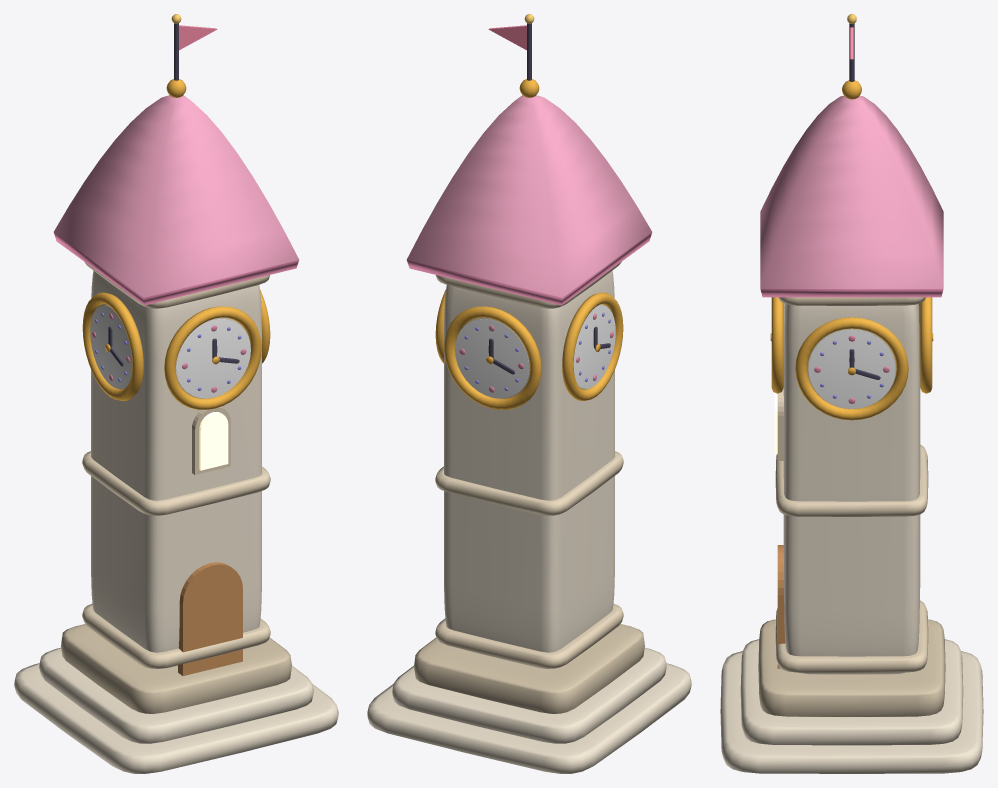
Rendered from clocktower.glb.
3 renders of one model, left to right at view 1: azimuth 30°, elevation 25°; view 2: azimuth 150°, elevation 25°; view 3: azimuth 270°, elevation 25°, orthographic.
Visible parts, largest first — view 1: clocktower; view 2: clocktower; view 3: clocktower.
Part boxes in pixels (box(x1,y1,x2,y2)): clocktower: box(14, 14, 338, 773); clocktower: box(367, 14, 691, 773); clocktower: box(720, 14, 983, 773).
Size of the model in its own units: 2.6 by 7.71 by 2.6.
Materials: 1 (1 with a texture image).
